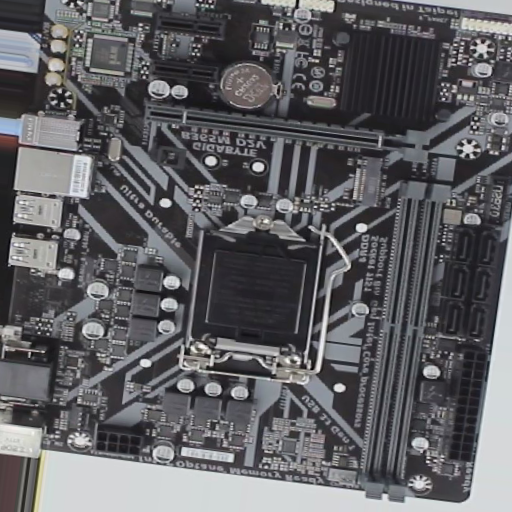CPU: (179, 185, 331, 382)
GPU: (145, 103, 382, 150)
MOTHERBOARD: (1, 1, 511, 502)
RAM: (358, 181, 450, 501)
SSD: (350, 157, 384, 204)
